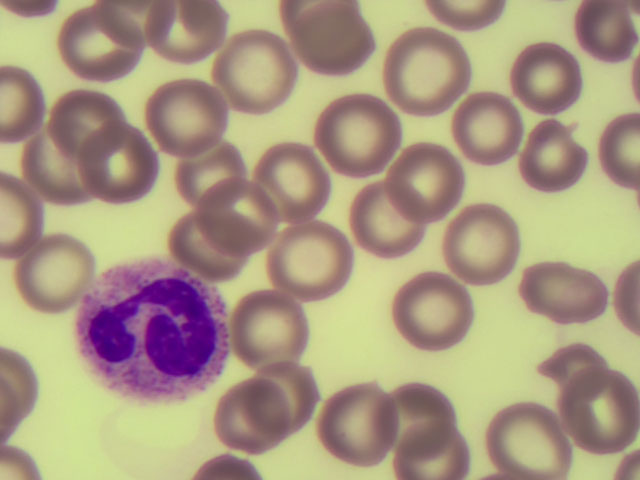RBC: (393, 36, 468, 115), (151, 80, 224, 155), (233, 297, 305, 372), (449, 211, 520, 286), (320, 98, 397, 167), (383, 385, 451, 461), (577, 368, 640, 449), (262, 144, 329, 220), (218, 38, 291, 106), (395, 144, 462, 218), (290, 13, 367, 77), (495, 405, 563, 477), (529, 262, 605, 326), (325, 393, 394, 462), (208, 184, 276, 254), (358, 182, 424, 254), (220, 384, 289, 452), (30, 129, 94, 202), (142, 1, 228, 55), (273, 230, 349, 291), (397, 283, 468, 347), (388, 421, 465, 480), (184, 135, 247, 205), (55, 96, 124, 159), (69, 13, 138, 75), (24, 243, 85, 310), (529, 118, 584, 191), (521, 49, 583, 113), (2, 64, 46, 148), (254, 363, 313, 425), (578, 1, 637, 59), (463, 97, 518, 159), (169, 215, 240, 262), (549, 341, 606, 394), (1, 179, 40, 256), (603, 113, 640, 192), (3, 347, 35, 424), (281, 1, 370, 26), (430, 1, 492, 31), (196, 453, 264, 480), (1, 443, 35, 477), (624, 265, 640, 337), (623, 60, 640, 108), (1, 1, 61, 11), (618, 456, 640, 480)
WBC: (88, 276, 221, 399)
